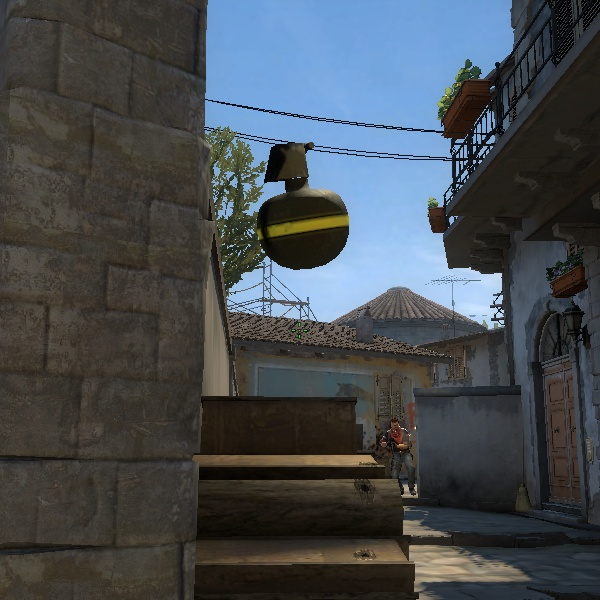t_body: (379, 414, 416, 492)
